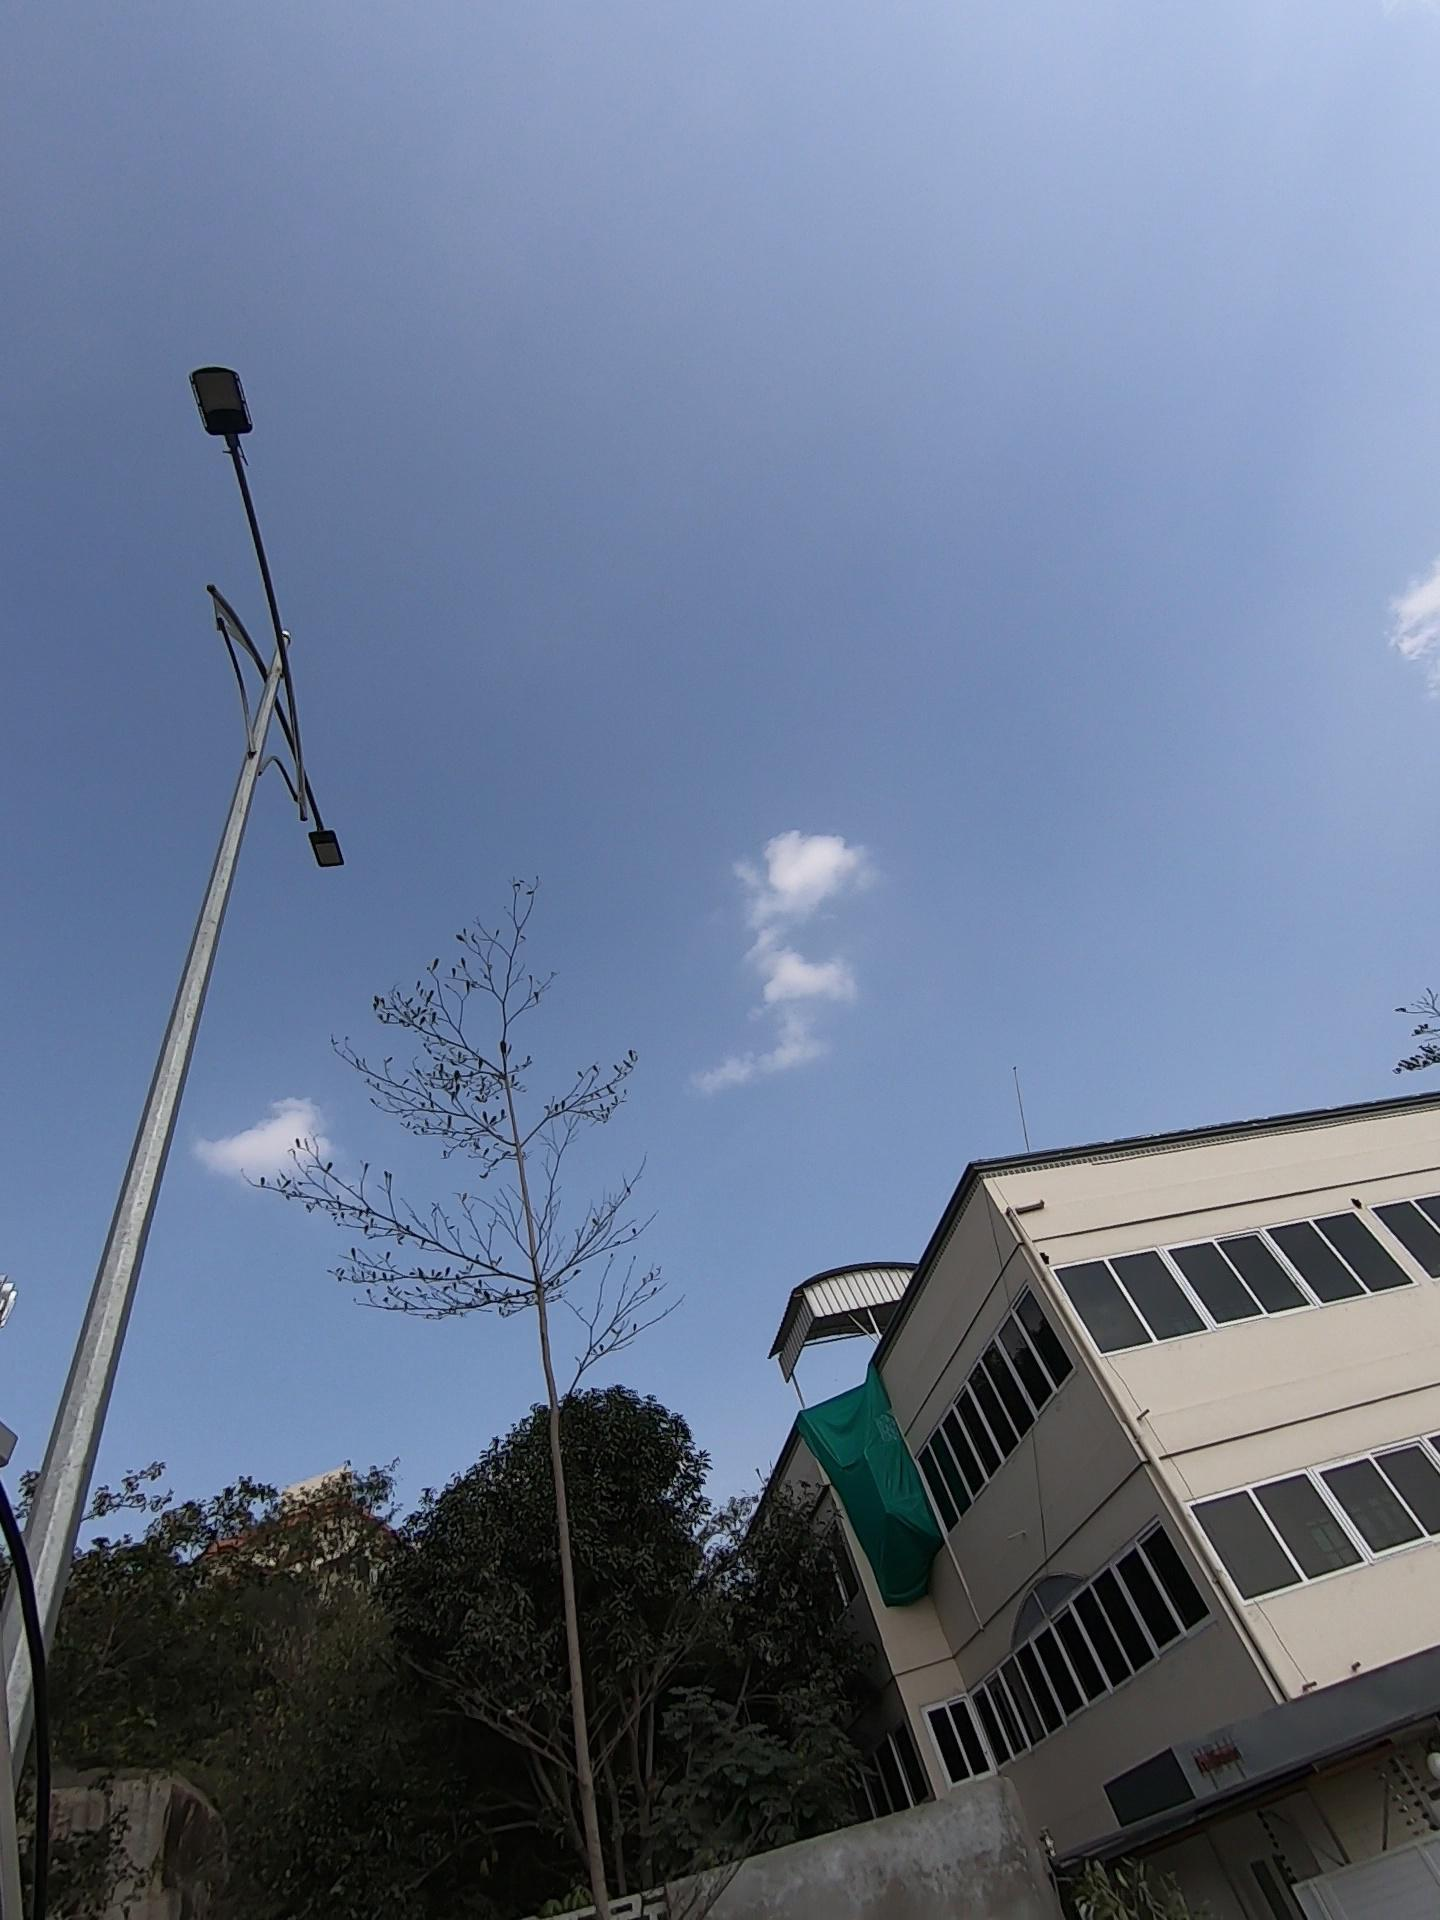off: (110, 296, 540, 895)
